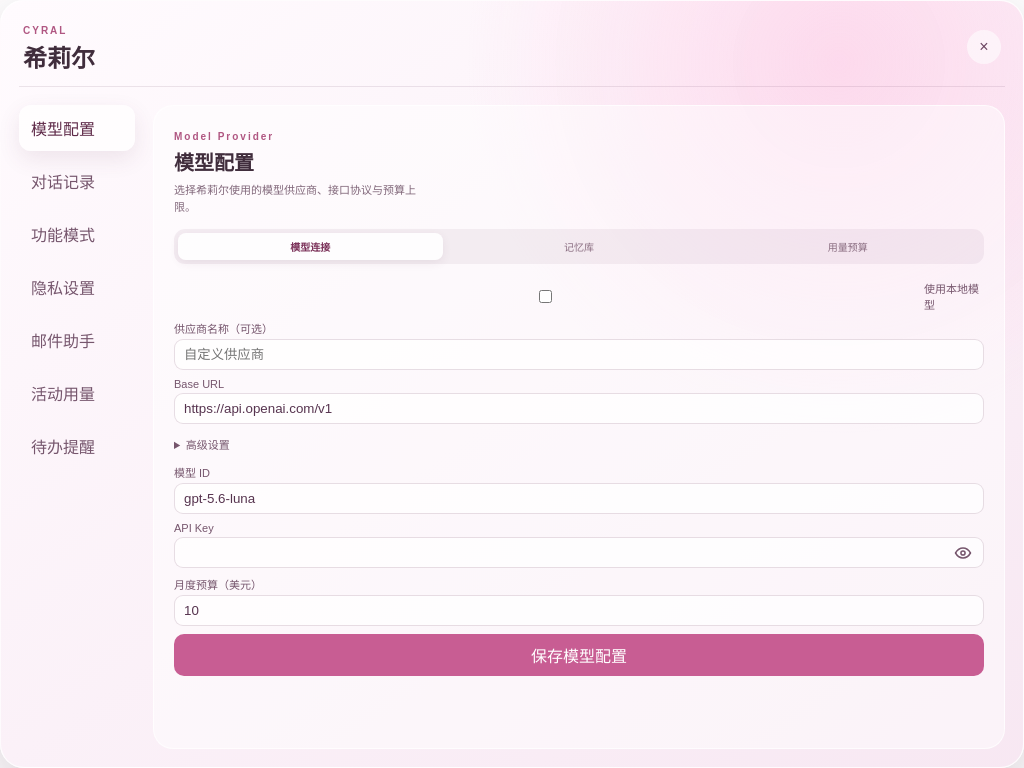
it: ControlPanel › switches the visible section without closing the panel
The image size is (1024, 768).
Click the tab "活动用量".
click(77, 393)  # box [19,370,135,416]
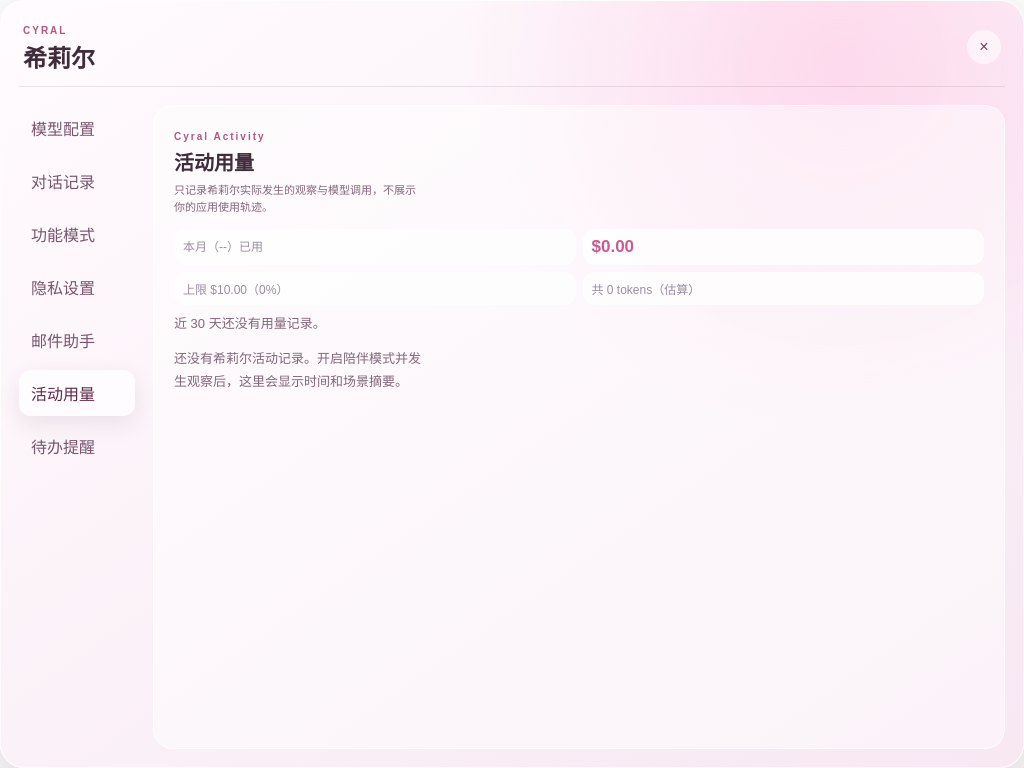
Result: the panel "活动用量" is shown
Result: the heading "活动用量" is shown at [174,152,254,174]
